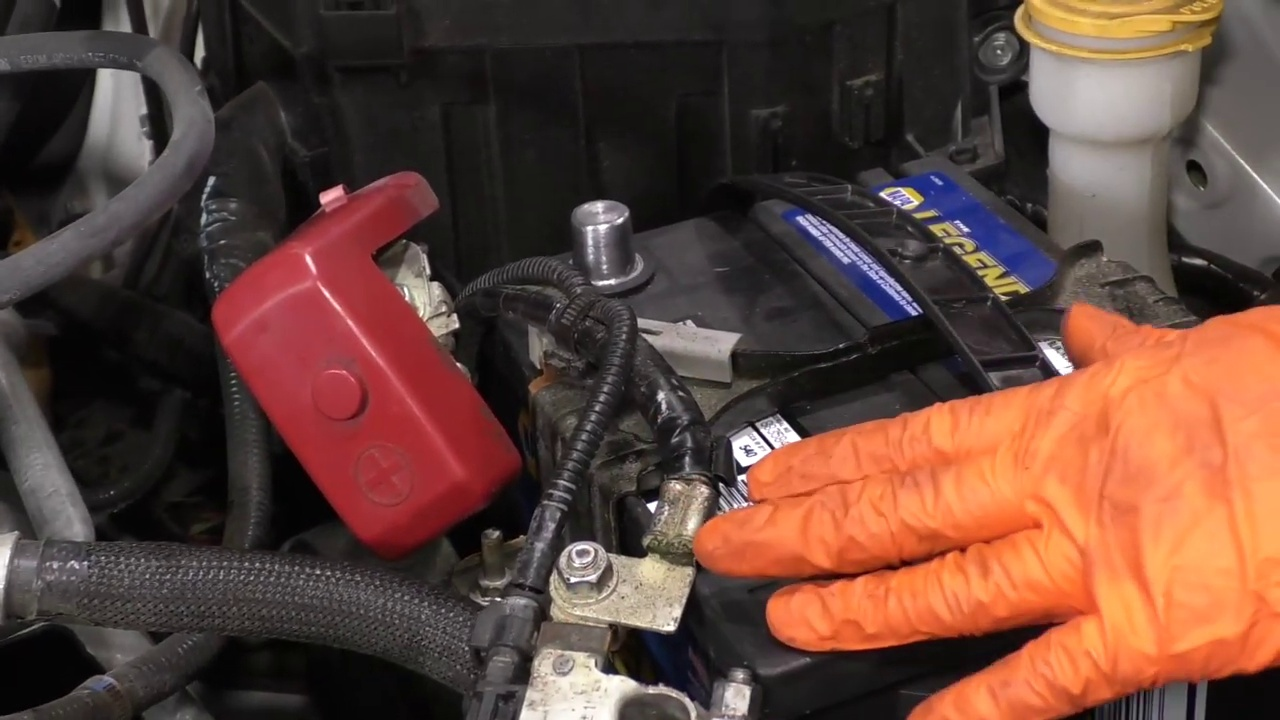battery: (477, 166, 1278, 683)
pos_disconnected: (285, 149, 675, 393)
